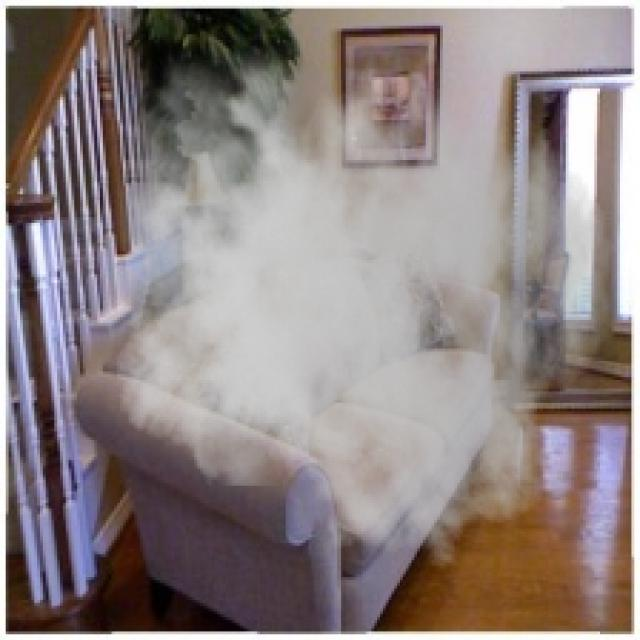smoke: (100, 23, 614, 568)
